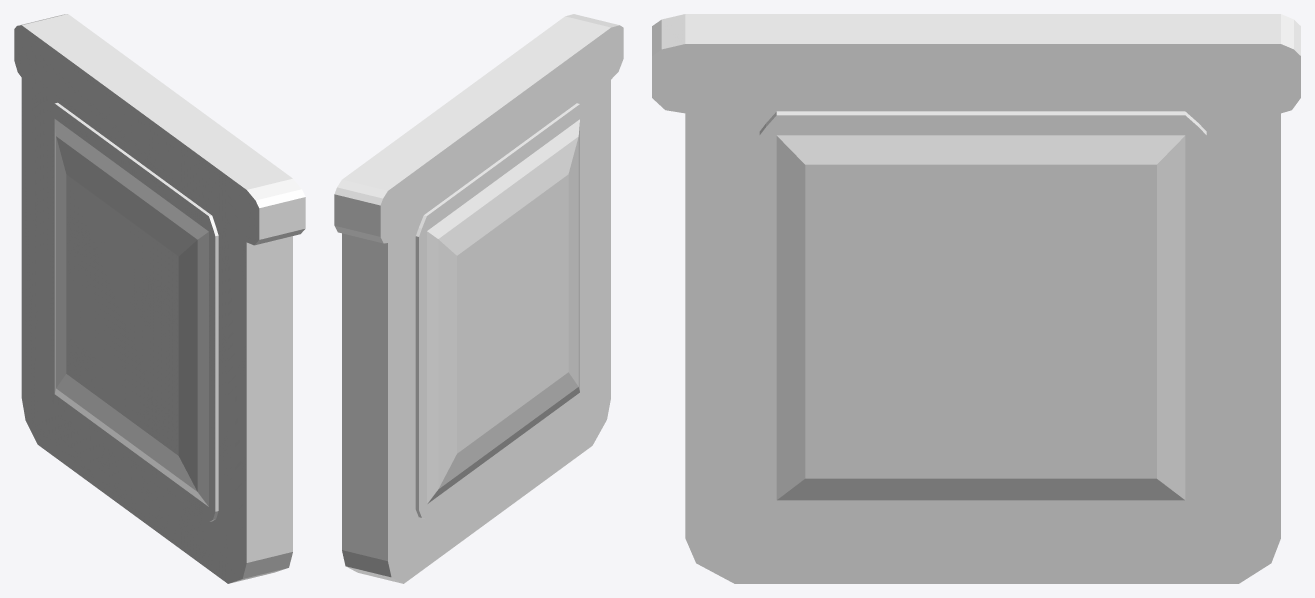
The model's file is Toast.fbx.
The picture shows the model from 3 angles, left to right: view 1: azimuth 30°, elevation 25°; view 2: azimuth 150°, elevation 25°; view 3: azimuth 270°, elevation 25°; orthographic projection. The views are drawn at different scales.
Parts seen in each view (by area): view 1: Toast, Peanut; view 2: Toast, Peanut; view 3: Peanut, Toast.
Part boxes in pixels (bbox=[...]): Toast: bbox=[14, 14, 305, 583]; Peanut: bbox=[46, 102, 218, 521]; Toast: bbox=[334, 14, 623, 583]; Peanut: bbox=[415, 103, 586, 519]; Peanut: bbox=[759, 111, 1206, 520]; Toast: bbox=[652, 14, 1300, 583].
Size of the model in its own units: 36.37 by 200 by 218.
